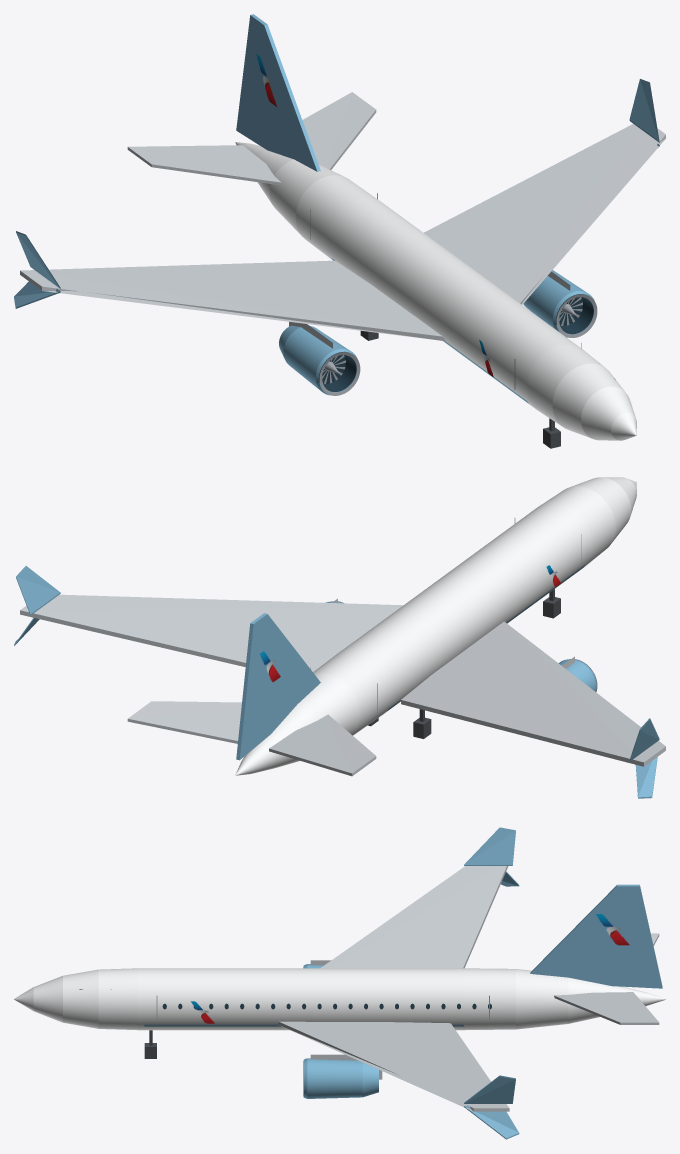
File: b737max-AAL-v3.gltf
3 views of the same model, one above another, from view 1: azimuth 30°, elevation 25°; view 2: azimuth 150°, elevation 25°; view 3: azimuth 270°, elevation 25° (orthographic). The views are drawn at different scales.
Parts seen in each view (by area): view 1: object 1; view 2: object 1, Gear; view 3: object 1.
Part boxes in pixels (box(x1,y1,x2,y2)): object 1: box(14, 14, 665, 440); object 1: box(14, 477, 665, 798); Gear: box(368, 589, 560, 738); object 1: box(14, 827, 665, 1139).
Bounding box in the file's own units: 36.72 × 11.6 × 40.
Materials: 8 (1 with a texture image).
